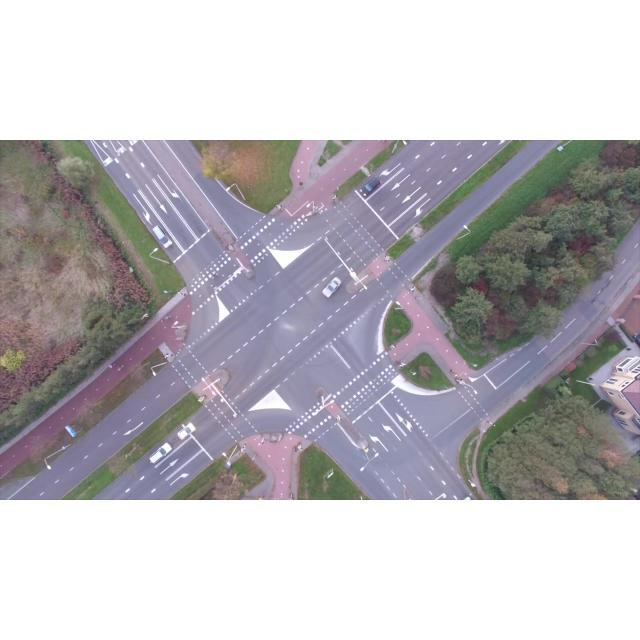vehicle: (148, 442, 172, 464), (152, 224, 172, 248), (359, 176, 381, 197), (322, 276, 342, 298), (178, 422, 196, 440)
